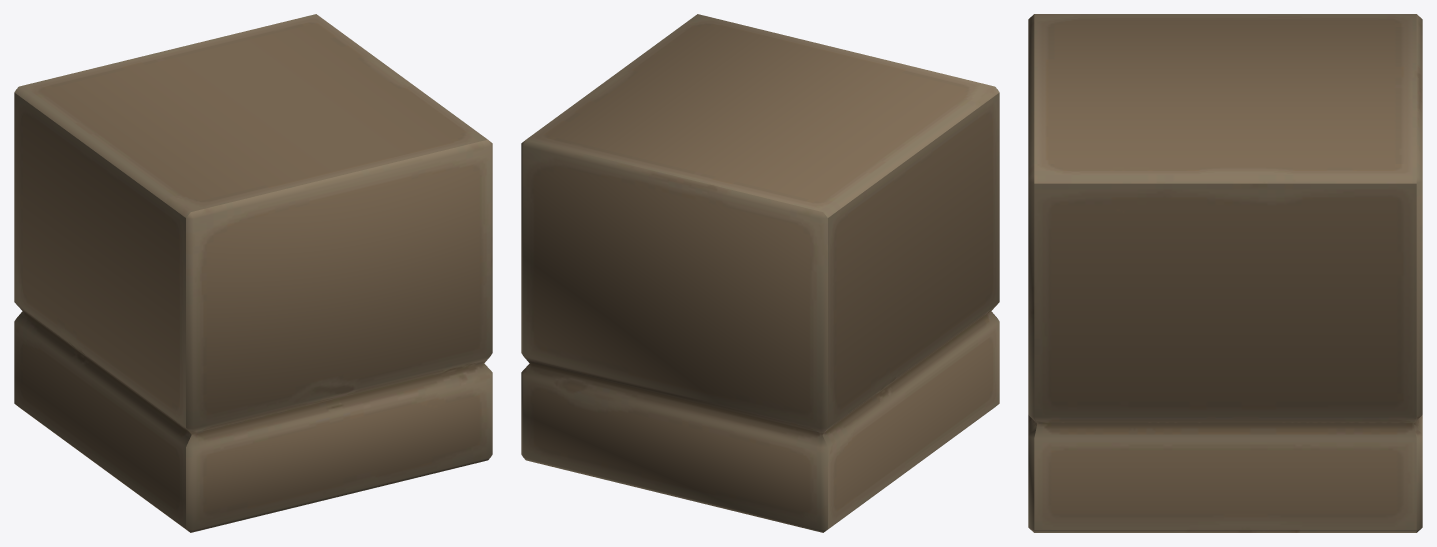
The model's file is SM_brick_building_06.glb.
3 views of the same model, side by side, from view 1: azimuth 30°, elevation 25°; view 2: azimuth 150°, elevation 25°; view 3: azimuth 270°, elevation 25° (orthographic). The views are drawn at different scales.
Parts seen in each view (by area): view 1: SM_brick_building_06; view 2: SM_brick_building_06; view 3: SM_brick_building_06.
Boxes of the visible parts, x1=… form: SM_brick_building_06: x1=14, y1=14, x2=492, y2=532; SM_brick_building_06: x1=521, y1=14, x2=999, y2=532; SM_brick_building_06: x1=1028, y1=14, x2=1422, y2=532.
Bounding box in the file's own units: 1 × 1 × 1.
Materials: 1 (1 with a texture image).
